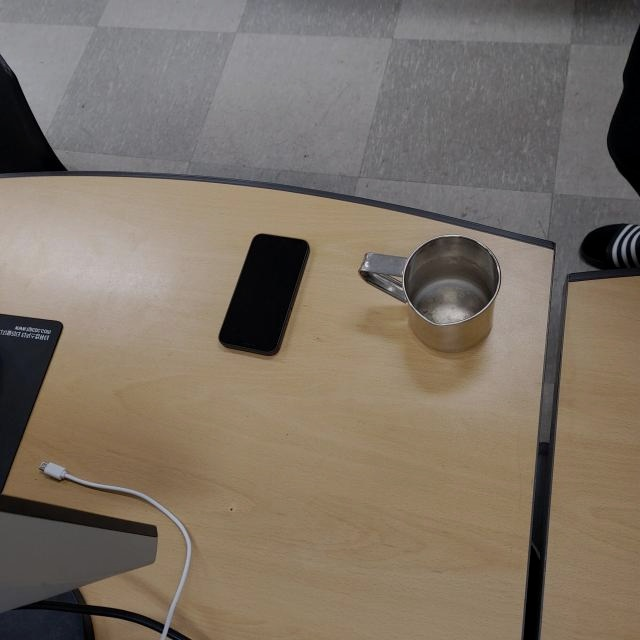cup: (358, 233, 501, 355)
phone: (218, 233, 313, 357)
